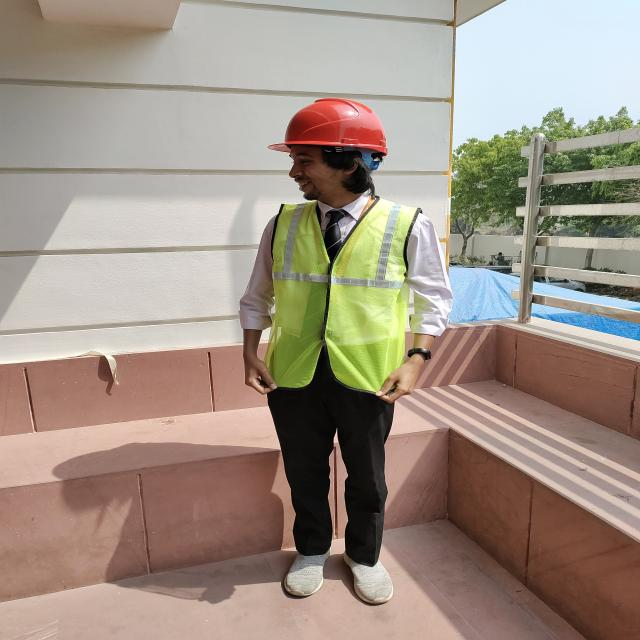safe: (244, 98, 436, 595)
